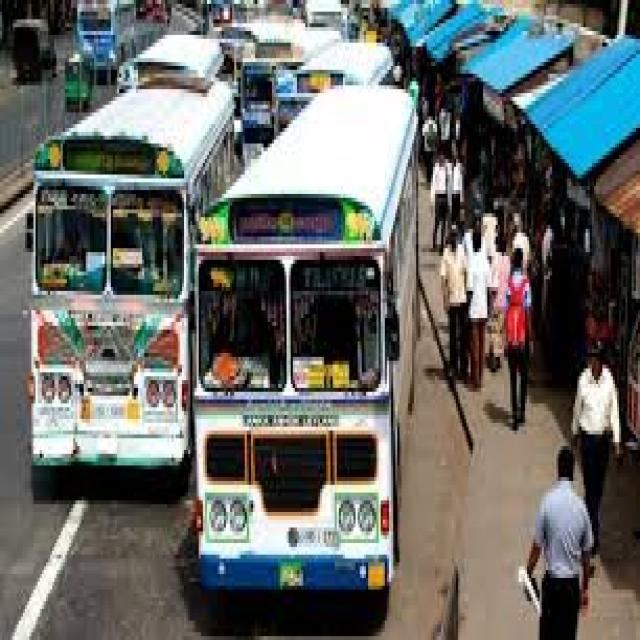bus: (38, 89, 414, 613), (29, 81, 230, 465), (77, 0, 134, 81)
person: (527, 450, 592, 640), (571, 349, 619, 551), (506, 248, 529, 431), (441, 225, 464, 380), (468, 217, 487, 365), (431, 151, 445, 248), (452, 159, 462, 221)
three wheeler: (67, 58, 90, 109)
